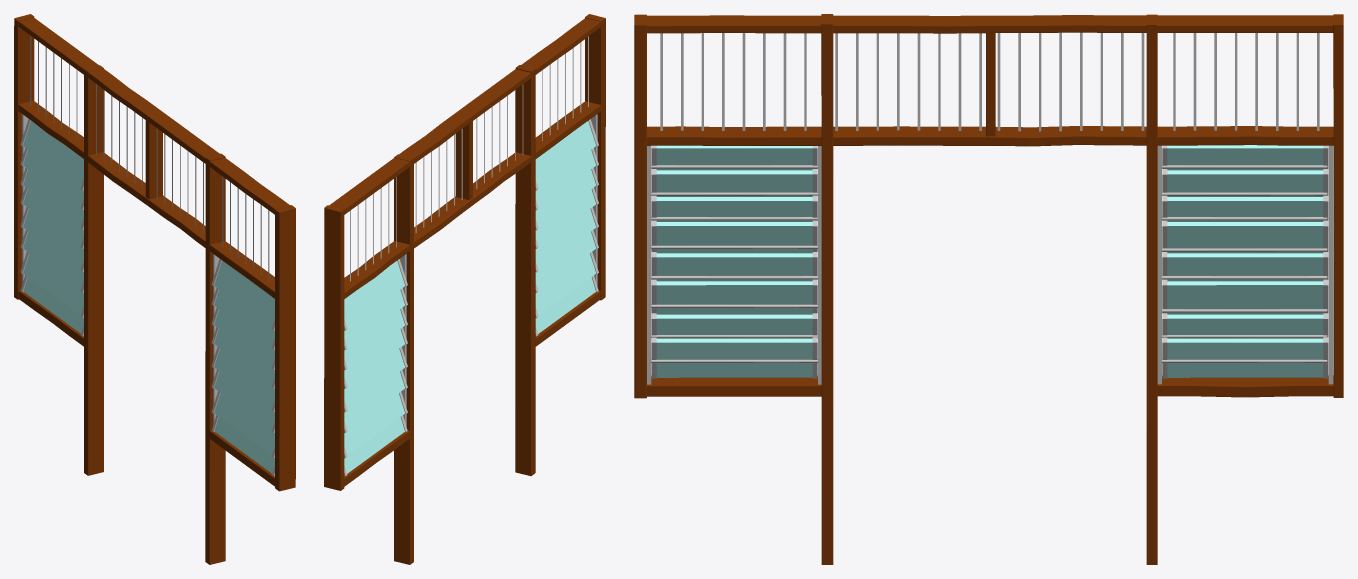
File: Window_Set_B.fbx
3 views of the same model, side by side, from view 1: azimuth 30°, elevation 25°; view 2: azimuth 150°, elevation 25°; view 3: azimuth 270°, elevation 25° (orthographic). The views are drawn at different scales.
Parts seen in each view (by area): view 1: Cube__12__190_2, Cube__12__90_4_002, Cube__12__90_4_001, Cube__12__102_4_002, Cube__12__102_4_001, Cube__12__98_4_001, Cube__12__98_4_002, Cube__12__99_4_001, Cube__12__99_4_002, Cube__12__94_4_001, Cube__12__94_4_002, Cube__12__91_4_002 (+10 smaller); view 2: Cube__12__190_2, Cube__12__90_4_002, Cube__12__90_4_001, Cube__12__102_4_002, Cube__12__102_4_001, Cube__12__98_4_002, Cube__12__98_4_001, Cube__12__99_4_002, Cube__12__99_4_001, Cube__12__94_4_002, Cube__12__94_4_001, Cube__12__91_4_002 (+11 smaller); view 3: Cube__12__190_2, Cube__12__104_4_002, Cube__12__104_4_001, Cube__12__99_4_002, Cube__12__99_4_001, Cube__12__96_4_002, Cube__12__96_4_001, Cube__12__98_4_001, Cube__12__98_4_002, Cube__12__91_4_002, Cube__12__91_4_001, Cube__12__90_4_001 (+13 smaller).
Boxes of the visible parts, box(x1,y1,x2,y2) form: Cube__12__190_2: box(14, 14, 295, 564); Cube__12__90_4_002: box(214, 260, 274, 327); Cube__12__90_4_001: box(23, 120, 83, 187); Cube__12__102_4_002: box(214, 393, 274, 455); Cube__12__102_4_001: box(23, 253, 83, 315); Cube__12__98_4_001: box(23, 208, 83, 269); Cube__12__98_4_002: box(214, 348, 274, 409); Cube__12__99_4_001: box(23, 231, 83, 290); Cube__12__99_4_002: box(214, 371, 274, 429); Cube__12__94_4_001: box(23, 169, 83, 227); Cube__12__94_4_002: box(214, 309, 274, 367); Cube__12__91_4_002: box(214, 289, 274, 347); Cube__12__190_2: box(324, 14, 605, 564); Cube__12__90_4_002: box(535, 121, 595, 187); Cube__12__90_4_001: box(344, 261, 404, 327); Cube__12__102_4_002: box(535, 253, 596, 315); Cube__12__102_4_001: box(344, 393, 405, 455); Cube__12__98_4_002: box(535, 209, 596, 269); Cube__12__98_4_001: box(344, 349, 405, 409); Cube__12__99_4_002: box(535, 232, 596, 290); Cube__12__99_4_001: box(344, 371, 404, 430); Cube__12__94_4_002: box(535, 169, 596, 227); Cube__12__94_4_001: box(344, 309, 405, 367); Cube__12__91_4_002: box(535, 150, 596, 207); Cube__12__190_2: box(634, 14, 1343, 564); Cube__12__104_4_002: box(656, 338, 812, 377); Cube__12__104_4_001: box(1167, 338, 1323, 377); Cube__12__99_4_002: box(656, 281, 812, 314); Cube__12__99_4_001: box(1167, 281, 1323, 314); Cube__12__96_4_002: box(656, 222, 812, 253); Cube__12__96_4_001: box(1167, 222, 1323, 253); Cube__12__98_4_001: box(1167, 253, 1323, 281); Cube__12__98_4_002: box(656, 253, 812, 281); Cube__12__91_4_002: box(656, 170, 812, 196); Cube__12__91_4_001: box(1167, 170, 1323, 196); Cube__12__90_4_001: box(1167, 145, 1323, 170).
Size of the model in its own units: 12.81 by 279 by 331.
